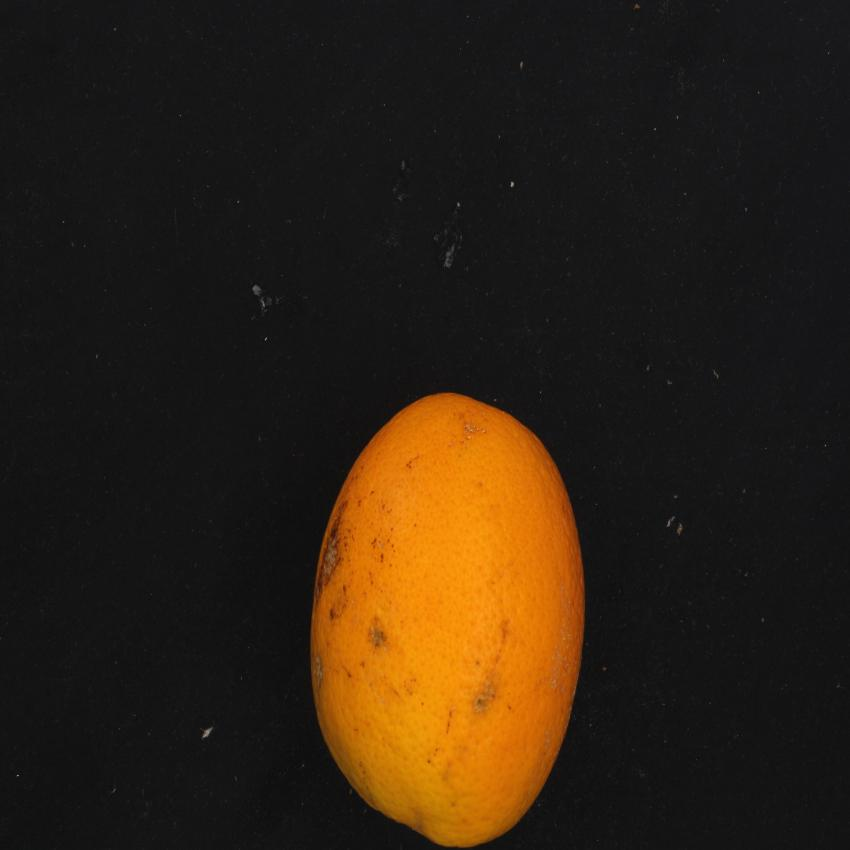Mal estado: (299, 372, 598, 850)
